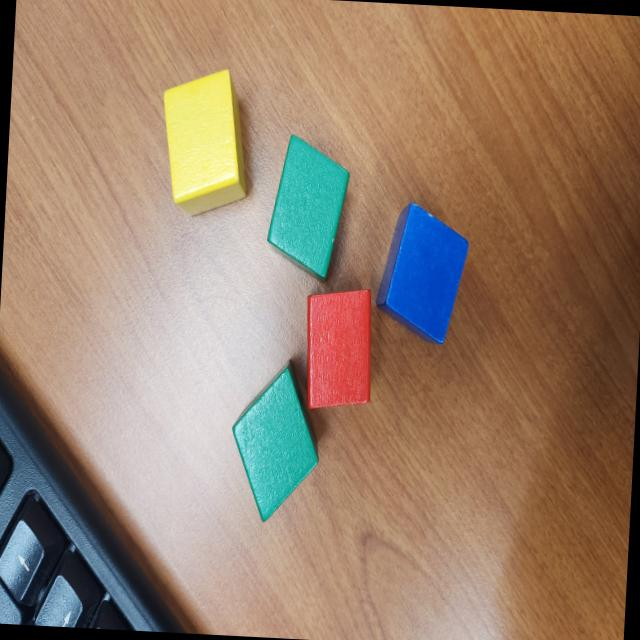blue: (374, 199, 473, 349)
green: (227, 355, 326, 526), (264, 132, 354, 284)
red: (301, 286, 378, 410)
yellow: (157, 68, 254, 220)
